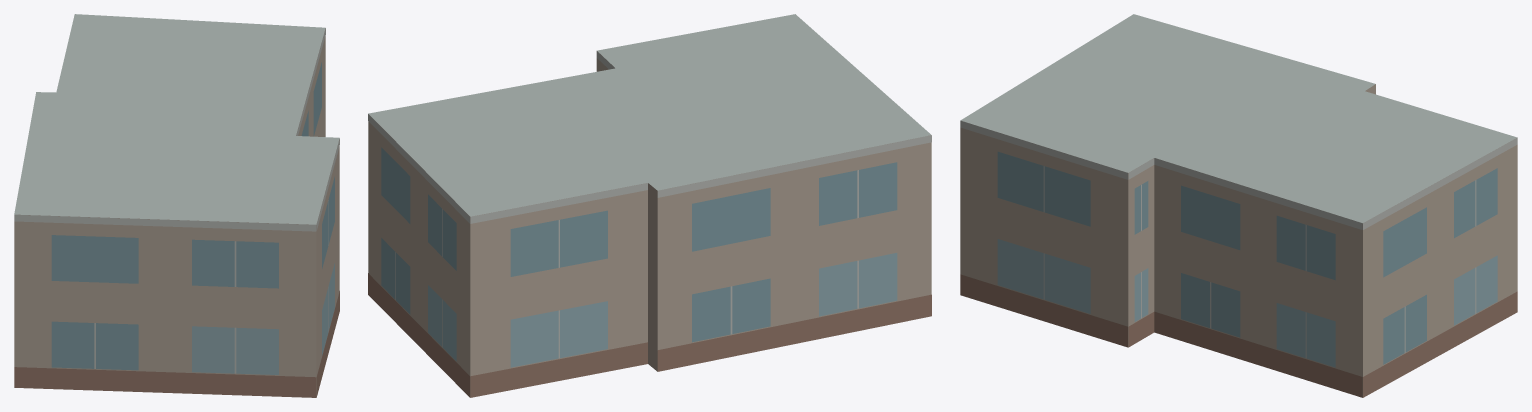
Rendered from survey-upis-32652970.glb.
3 views of the same model, side by side, from view 1: azimuth 30°, elevation 25°; view 2: azimuth 150°, elevation 25°; view 3: azimuth 270°, elevation 25° (orthographic). The views are drawn at different scales.
Visible parts, largest first — view 1: survey-upis-32652970.tmp; view 2: survey-upis-32652970.tmp; view 3: survey-upis-32652970.tmp.
Part boxes in pixels (x1,y1,x2,y2): survey-upis-32652970.tmp: (14, 14, 339, 397); survey-upis-32652970.tmp: (368, 14, 931, 397); survey-upis-32652970.tmp: (960, 14, 1517, 397).
Bounding box in the file's own units: 15.68 × 6.1 × 17.65.
